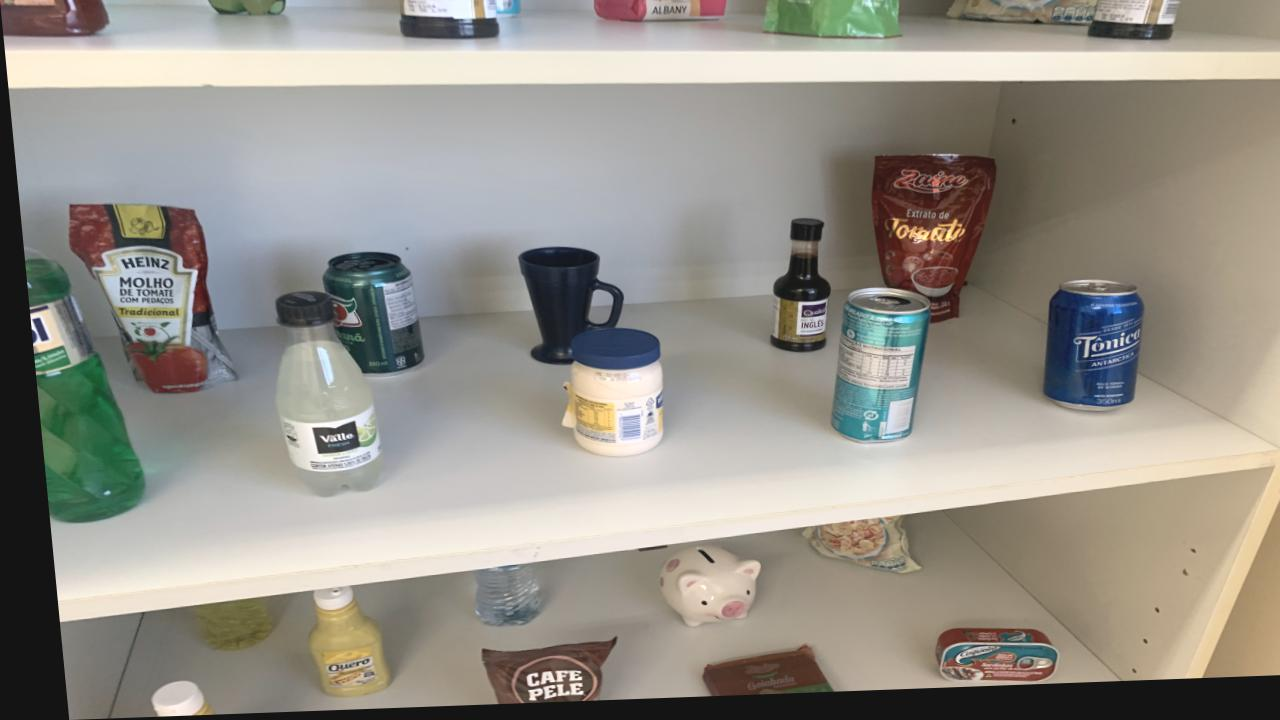Cleaner-Cleanup_Items: (494, 0, 520, 21)
Coffee-Pantry_Items: (468, 642, 603, 707)
Detergent-Cleanup_Items: (19, 247, 135, 523), (181, 600, 261, 652)
English_Sauce-Pantry_Items: (763, 224, 824, 358), (1088, 0, 1183, 49), (398, 0, 499, 42)
Flakes-Snacks: (792, 523, 908, 579), (946, 0, 1100, 34)
Guarana-Drinks: (207, 0, 286, 17)
Guarana_Can-Drinks: (317, 254, 418, 377)
Guava-Snacks: (688, 651, 817, 701)
Ketchup-Pantry_Items: (0, 0, 109, 37)
Mayonnaise-Pantry_Items: (556, 333, 656, 460)
Mustard-Pantry_Items: (294, 588, 377, 699), (138, 681, 191, 717)
Pig_Safe-Miscellaneous: (648, 549, 750, 631)
Soap-Cleanup_Items: (594, 0, 725, 27)
Soda-Drinks: (268, 293, 374, 498)
Tea-Drinks: (822, 294, 924, 449)
Tomato_Sauce-Pantry_Items: (64, 204, 229, 394), (867, 161, 991, 330), (762, 0, 900, 45)
Tonic-Drinks: (1034, 288, 1137, 419)
Tuna_Can-Pantry_Items: (921, 635, 1045, 689)
Water_Bottle-Drinks: (462, 567, 529, 630)
